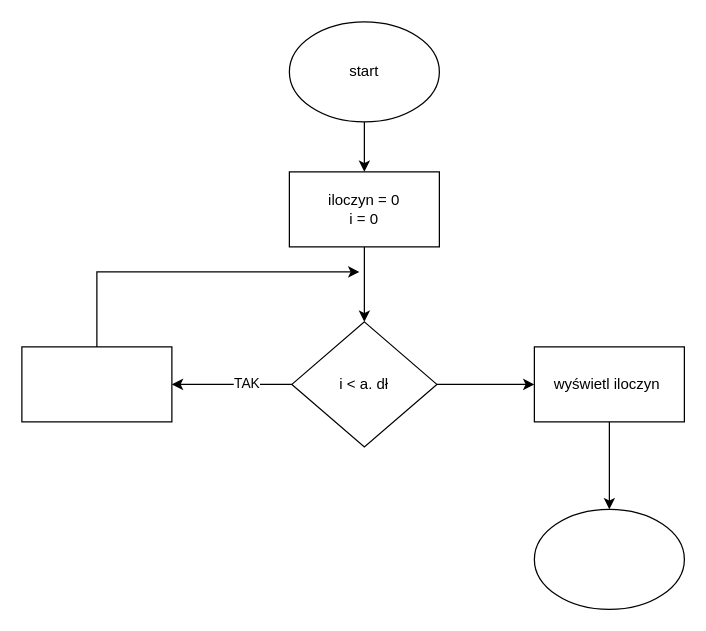
Image size: 706x631. Some labels were removed from this diagram. Each missing label, with the centre of its shape:
"iloczyn = * a [i] i = i + 1" goes at (96,384).
"stop" goes at (608,558).
